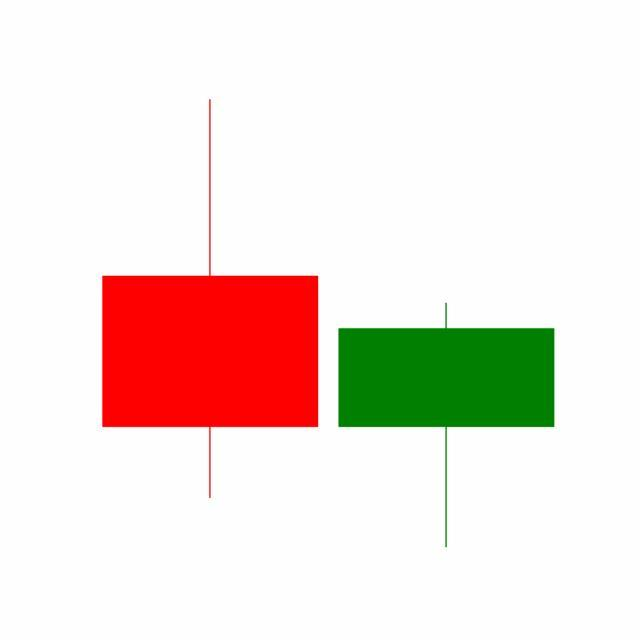Hammer: (328, 301, 566, 552)
